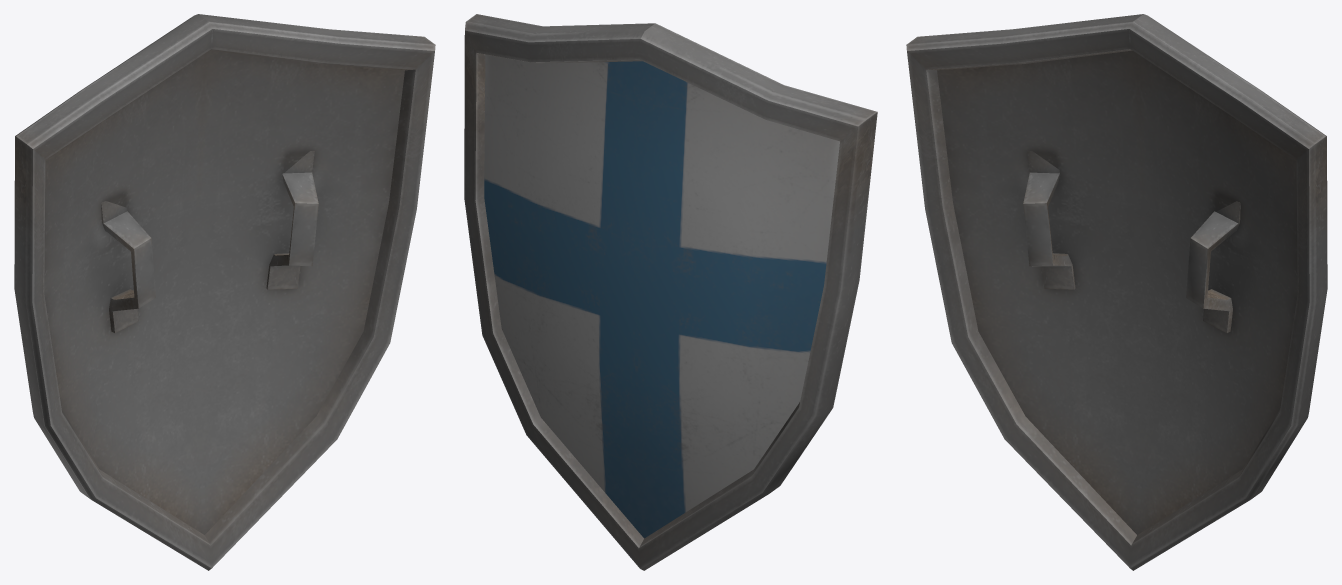
Rendered from GAM0210018.fbx.
3 views of the same model, side by side, from view 1: azimuth 30°, elevation 25°; view 2: azimuth 150°, elevation 25°; view 3: azimuth 330°, elevation 25° (orthographic).
Visible parts, largest first — view 1: smGAM0210018; view 2: smGAM0210018; view 3: smGAM0210018.
Part boxes in pixels (bbox=[...]): smGAM0210018: bbox=[14, 14, 435, 570]; smGAM0210018: bbox=[464, 14, 877, 570]; smGAM0210018: bbox=[906, 14, 1327, 570].
Size of the model in its own units: 55.35 by 71.12 by 10.34.
Materials: 1 (1 with a texture image).
